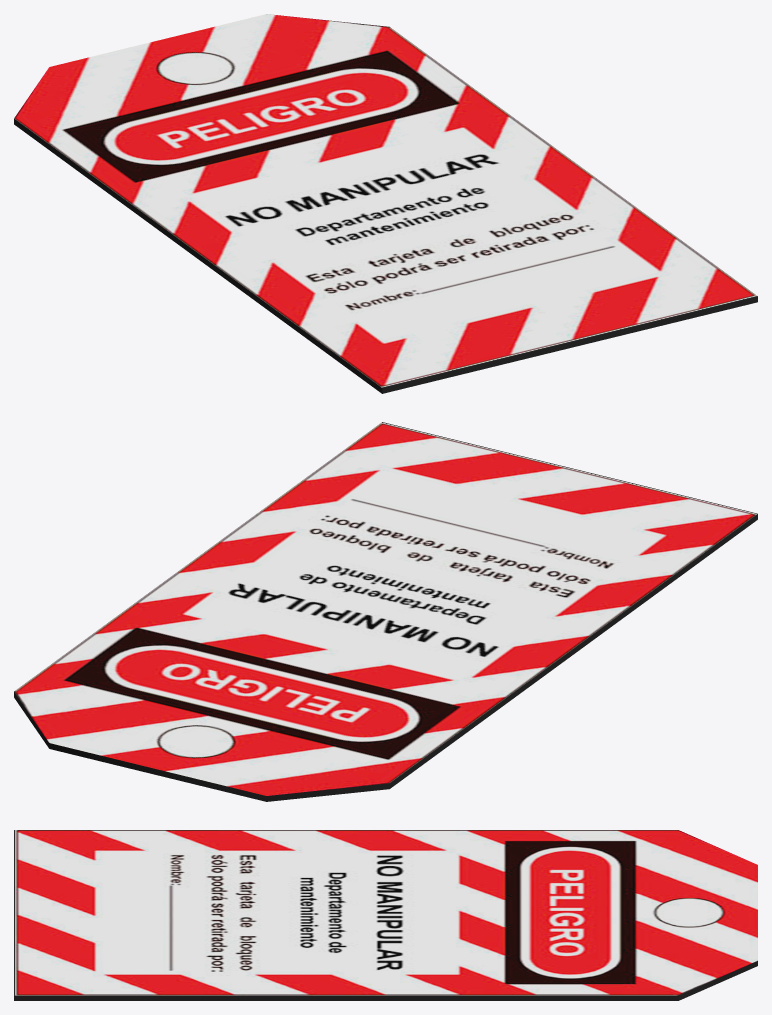
File: EtiquetaBloqueo.fbx
3 views of the same model, one above another, from view 1: azimuth 30°, elevation 25°; view 2: azimuth 150°, elevation 25°; view 3: azimuth 270°, elevation 25° (orthographic). The views are drawn at different scales.
Visible parts, largest first — view 1: Plane002; view 2: Plane002; view 3: Plane002.
Boxes of the visible parts, x1,y1,x2,y2 form: Plane002: (14,14,757,393); Plane002: (14,422,757,801); Plane002: (14,830,757,1000).
Size of the model in its own units: 169 by 2.54 by 321.
Materials: 1 (1 with a texture image).
